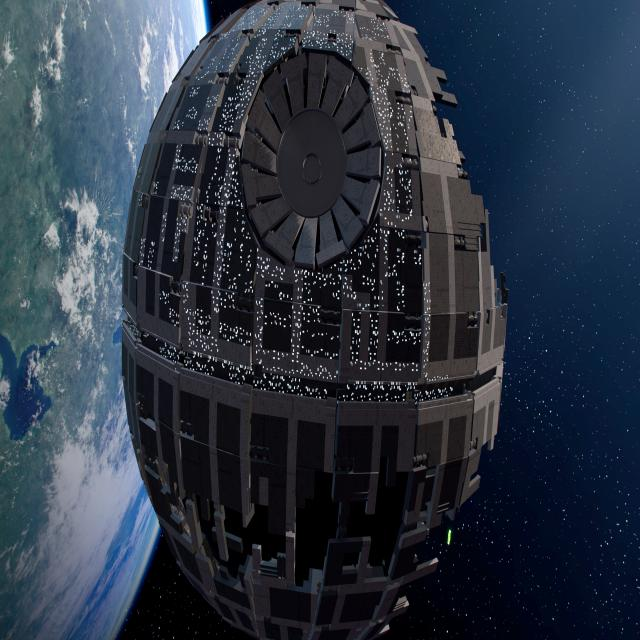deathStar: (123, 0, 510, 636)
